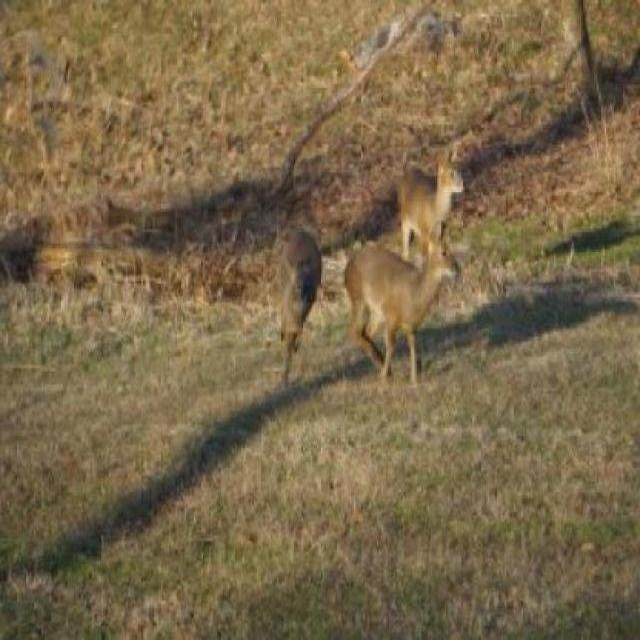deer: (347, 224, 465, 393), (282, 230, 324, 390), (396, 146, 469, 222)
